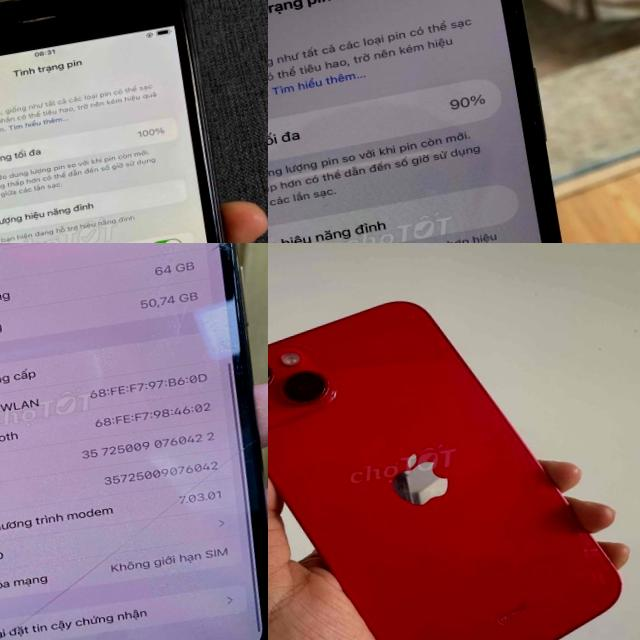physical_damage: (0, 243, 268, 640)
